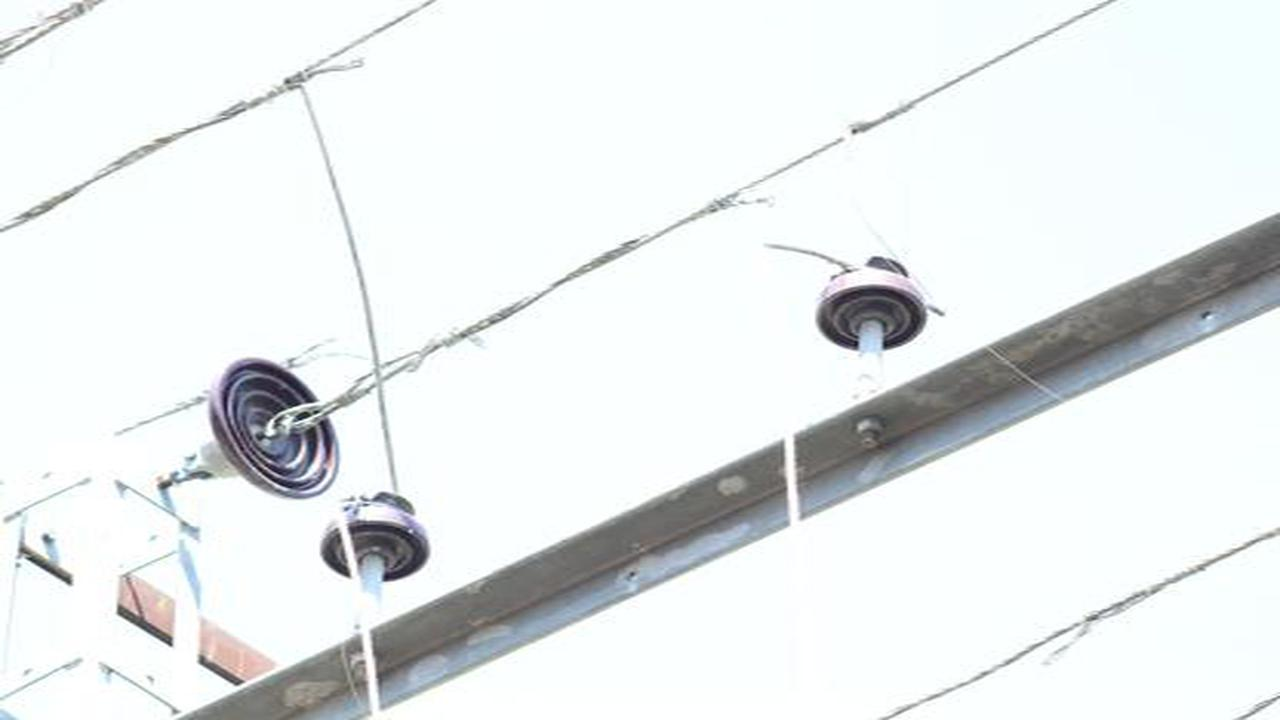insulator_disc: (181, 355, 345, 505)
insulator_pin: (813, 249, 934, 356), (320, 490, 433, 591)
